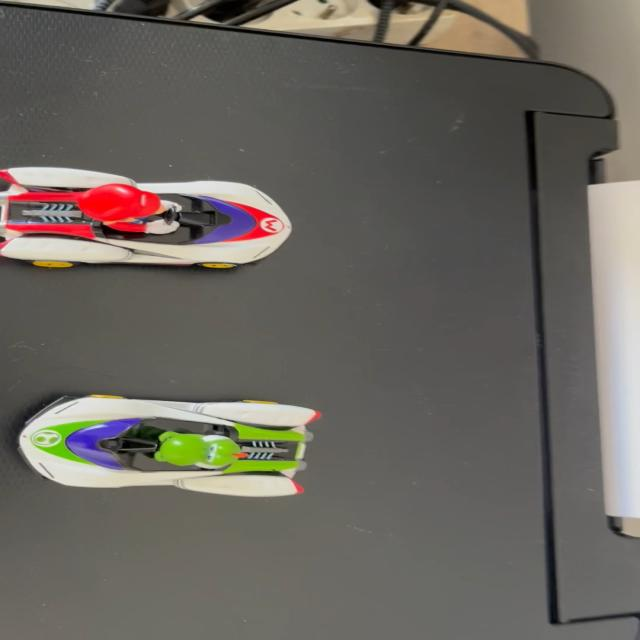mario: (0, 157, 310, 275)
yoshi: (0, 382, 341, 509)
